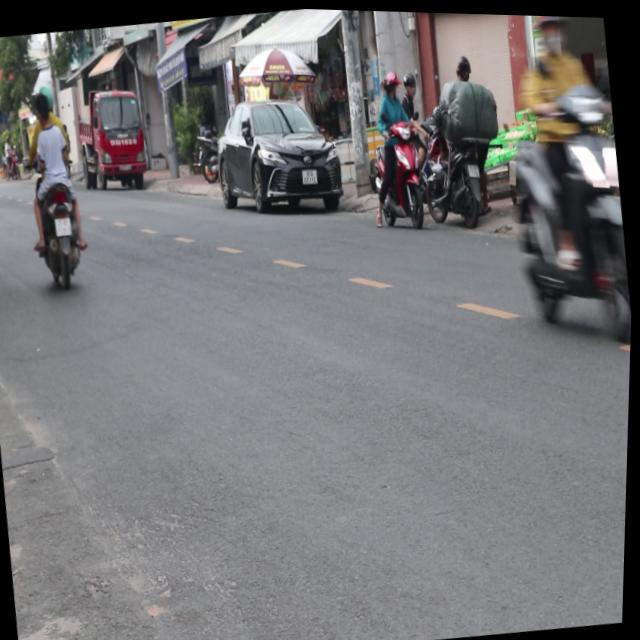helmet: (531, 12, 568, 51), (32, 72, 57, 105), (383, 65, 400, 95)
licenseplate: (479, 11, 640, 351), (15, 78, 99, 291), (360, 61, 437, 230)
motorcyclist: (32, 89, 56, 130)
nohelmet: (56, 215, 74, 236)
